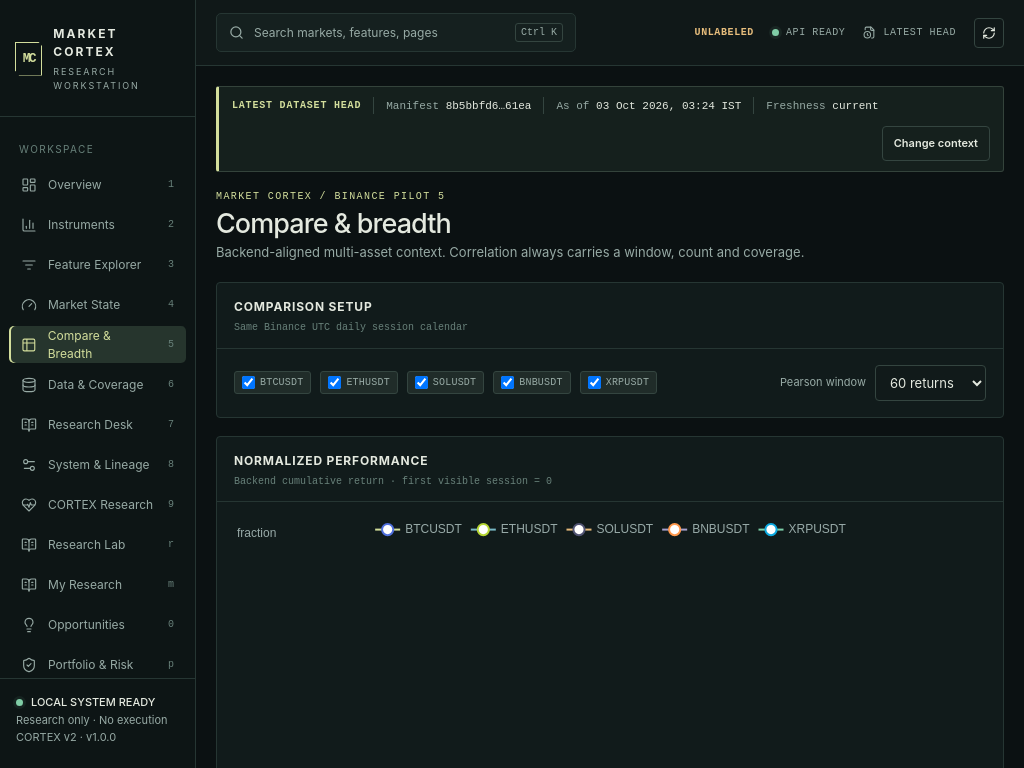
Test: research workstation › clears later comparison evidence when a historical cutoff has no visible instruments
The width and height of the screenshot is (1024, 768).
Click the button "Change context": click(936, 143) [882,126,990,160]
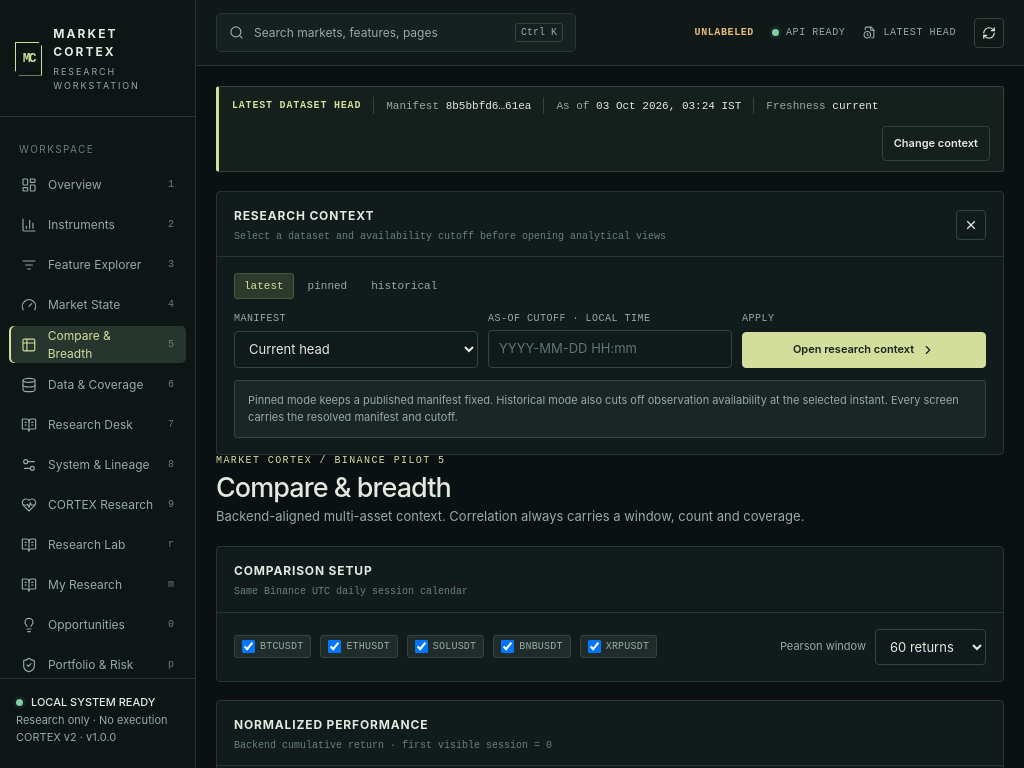
Click the button "historical": click(404, 286) [361,273,447,299]
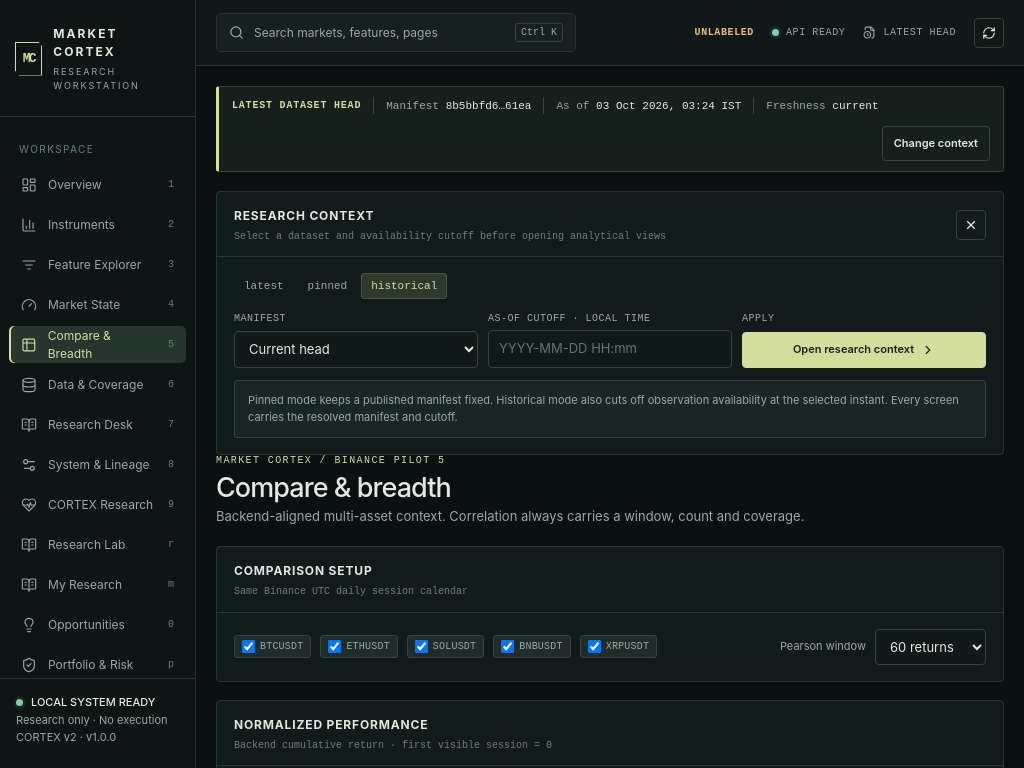
In the field labelled "As-of cutoff · local time": (610, 349) [488,330,732,368], type "2026-09-01T12:00"
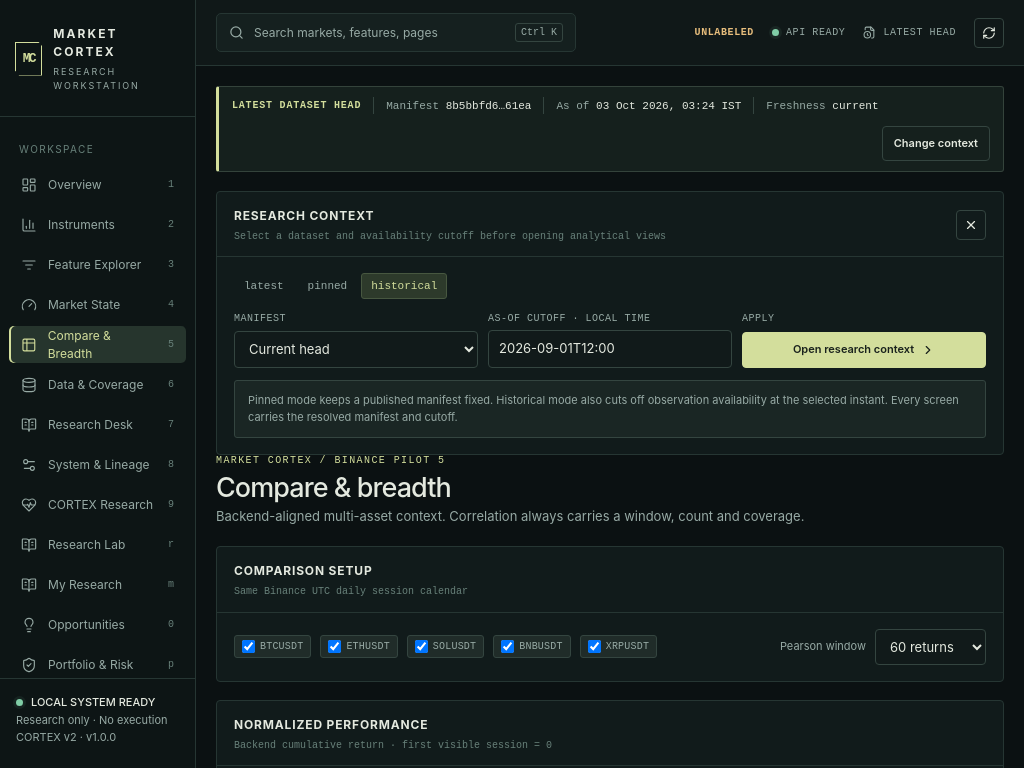
Click the button "Open research context": click(864, 350) [742,332,986,368]
(page scrolled)
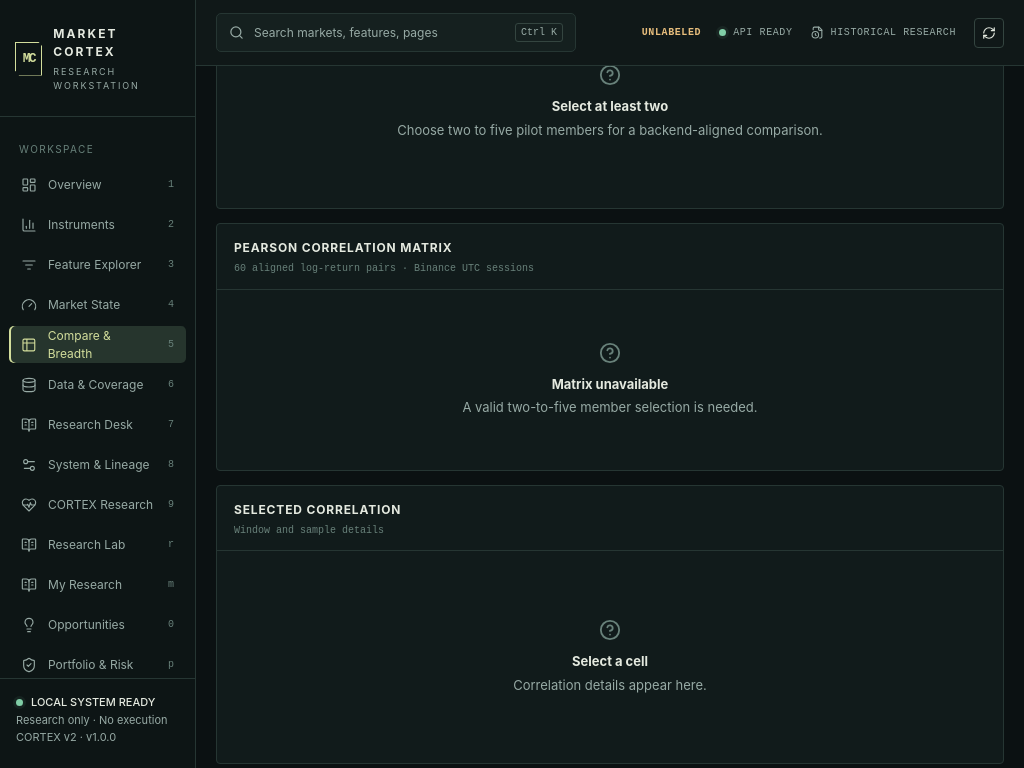
expect the text "Matrix unavailable" is shown: met, box [552,376,668,392]
